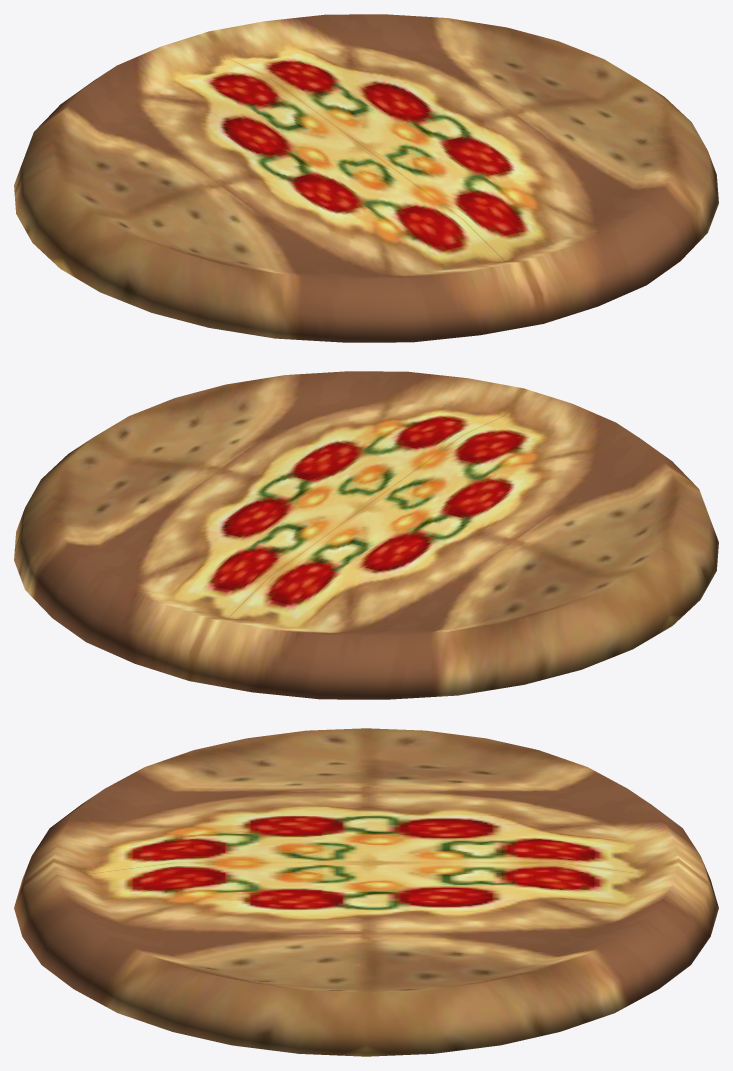
The model's file is F2_Item_Flyingdisk_Toy_Pizza.dae.
3 views of the same model, one above another, from view 1: azimuth 30°, elevation 25°; view 2: azimuth 150°, elevation 25°; view 3: azimuth 270°, elevation 25° (orthographic).
Visible parts, largest first — view 1: _0_0_node; view 2: _0_0_node; view 3: _0_0_node.
Boxes of the visible parts, box(x1,y1,x2,y2) form: _0_0_node: box(14, 14, 718, 342); _0_0_node: box(14, 371, 718, 699); _0_0_node: box(14, 728, 718, 1056).
Bounding box in the file's own units: 2.23 × 0.1664 × 2.24.
1 material, 1 textured.
